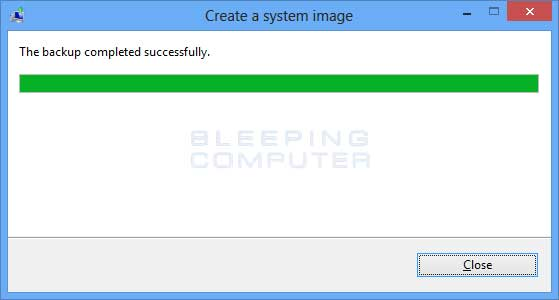close: (507, 1, 552, 22)
